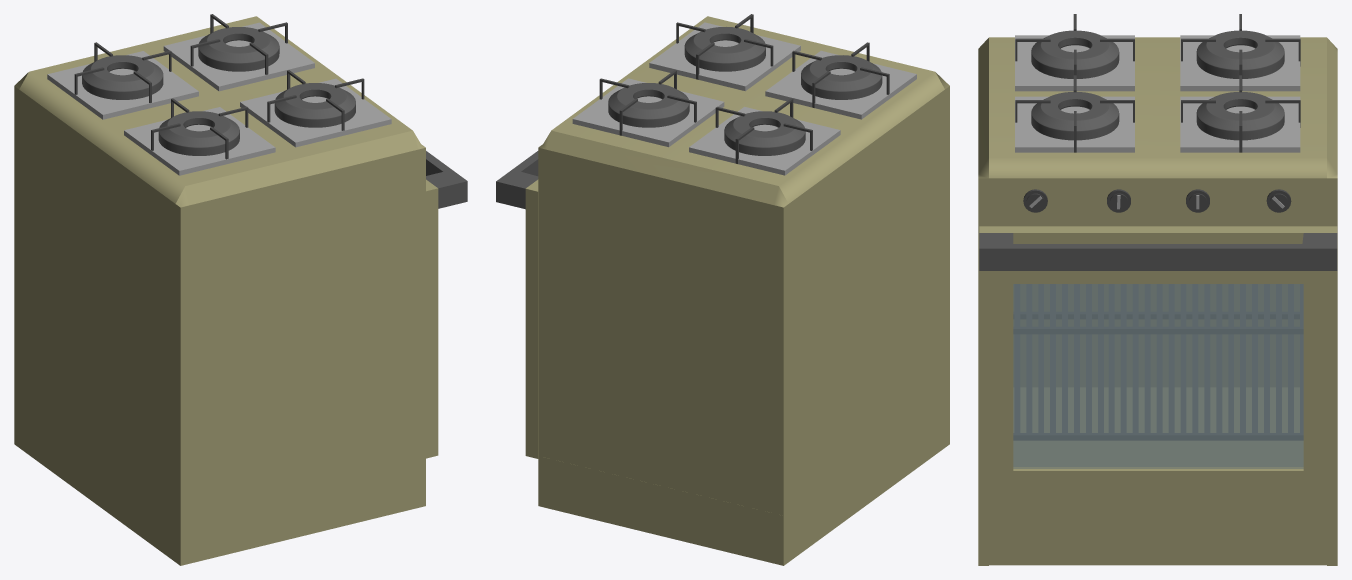
File: Oven.fbx
The picture shows the model from 3 angles, left to right: view 1: azimuth 30°, elevation 25°; view 2: azimuth 150°, elevation 25°; view 3: azimuth 270°, elevation 25°; orthographic projection. The views are drawn at different scales.
Visible parts, largest first — view 1: pCube26; view 2: pCube26; view 3: pCube26.
Boxes of the visible parts, bbox=[...] form: pCube26: bbox=[14, 14, 467, 565]; pCube26: bbox=[496, 14, 949, 565]; pCube26: bbox=[978, 14, 1337, 565].
Bounding box in the file's own units: 1396 × 1847 × 1397.
